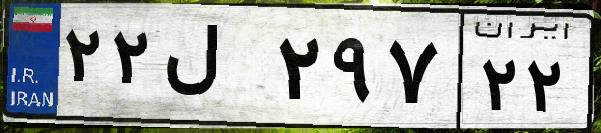2: (270, 28, 330, 110), (57, 26, 110, 100), (475, 38, 525, 113), (525, 38, 570, 115), (110, 28, 158, 98)
7: (385, 28, 445, 110)
9: (330, 28, 385, 110)
ل: (158, 20, 270, 120)
